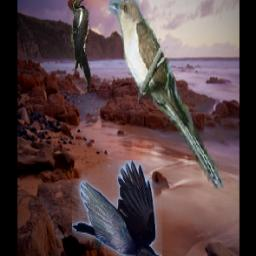Crow: (72, 161, 162, 256)
Cuckoo: (106, 0, 224, 195)
Woodpecker: (69, 0, 92, 91)
